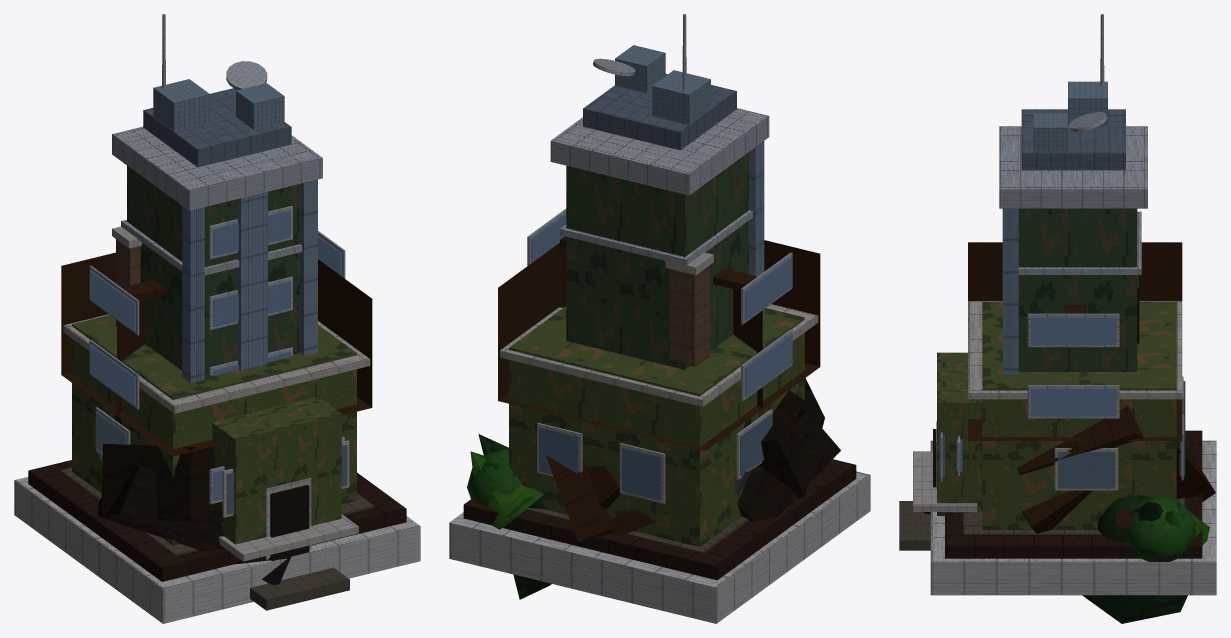
File: world_props.glb
3 renders of one model, left to right at view 1: azimuth 30°, elevation 25°; view 2: azimuth 150°, elevation 25°; view 3: azimuth 270°, elevation 25°, orthographic. The views are drawn at different scales.
Parts seen in each view (by area): view 1: house_body (×2), house_wreck_base (×2), house_body_front_bay, house_wreck_body (×2), house_trim_cap, house_roof_right, house_roof (×2), house_accent_spine, house_accent_column_left, house_trim_belt, house_roof_left, house_accent_column_right (+18 smaller); view 2: house_body (×2), house_wreck_base (×2), house_trim_cap, house_wreck_body (×2), house_roof_left, house_roof (×2), house_chimney, house_roof_right, house_wreck_roof (×2), house_trim_belt, tree_canopy_accent_0 (×2), house_roof_unit_left (+13 smaller); view 3: house_body (×2), house_wreck_base (×2), house_trim_cap, house_body_front_bay, house_wreck_roof (×2), house_roof, tree_canopy_accent_0 (×2), tree_canopy_0 (×2), house_trim_belt, house_roof_left, house_roof_right, house_accent_column_right (+13 smaller).
Boxes of the visible parts, x1=… form: house_body (×2): x1=72, y1=165, x2=356, y2=545; house_wreck_base (×2): x1=14, y1=460, x2=420, y2=623; house_body_front_bay: x1=212, y1=397, x2=341, y2=557; house_wreck_body (×2): x1=98, y1=444, x2=294, y2=584; house_trim_cap: x1=112, y1=126, x2=322, y2=210; house_roof_right: x1=117, y1=259, x2=372, y2=456; house_roof (×2): x1=122, y1=88, x2=291, y2=300; house_accent_spine: x1=237, y1=192, x2=267, y2=370; house_accent_column_left: x1=182, y1=206, x2=204, y2=383; house_trim_belt: x1=63, y1=314, x2=370, y2=413; house_roof_left: x1=61, y1=252, x2=126, y2=415; house_accent_column_right: x1=300, y1=179, x2=317, y2=355; house_body (×2): x1=509, y1=152, x2=804, y2=546; house_wreck_base (×2): x1=449, y1=459, x2=870, y2=623; house_trim_cap: x1=550, y1=108, x2=769, y2=195; house_wreck_body (×2): x1=737, y1=378, x2=840, y2=521; house_roof_left: x1=498, y1=245, x2=762, y2=451; house_roof (×2): x1=560, y1=74, x2=756, y2=290; house_chimney: x1=669, y1=265, x2=709, y2=366; house_roof_right: x1=556, y1=240, x2=820, y2=409; house_wreck_roof (×2): x1=536, y1=431, x2=620, y2=544; house_trim_belt: x1=500, y1=304, x2=818, y2=406; tree_canopy_accent_0 (×2): x1=467, y1=449, x2=543, y2=529; house_roof_unit_left: x1=652, y1=70, x2=710, y2=124; house_body (×2): x1=982, y1=208, x2=1176, y2=529; house_wreck_base (×2): x1=930, y1=430, x2=1216, y2=595; house_trim_cap: x1=999, y1=126, x2=1147, y2=208; house_body_front_bay: x1=937, y1=352, x2=982, y2=515; house_wreck_roof (×2): x1=1017, y1=406, x2=1215, y2=533; house_roof: x1=1021, y1=109, x2=1125, y2=169; tree_canopy_accent_0 (×2): x1=1127, y1=495, x2=1209, y2=561; tree_canopy_0 (×2): x1=1082, y1=495, x2=1187, y2=623; house_trim_belt: x1=968, y1=301, x2=1182, y2=399; house_roof_left: x1=1071, y1=242, x2=1182, y2=440; house_roof_right: x1=968, y1=242, x2=1139, y2=440; house_accent_column_right: x1=1003, y1=208, x2=1018, y2=374.
Size of the model in its own units: 42.39 by 84.21 by 44.4.
Materials: 103 (97 with a texture image).
